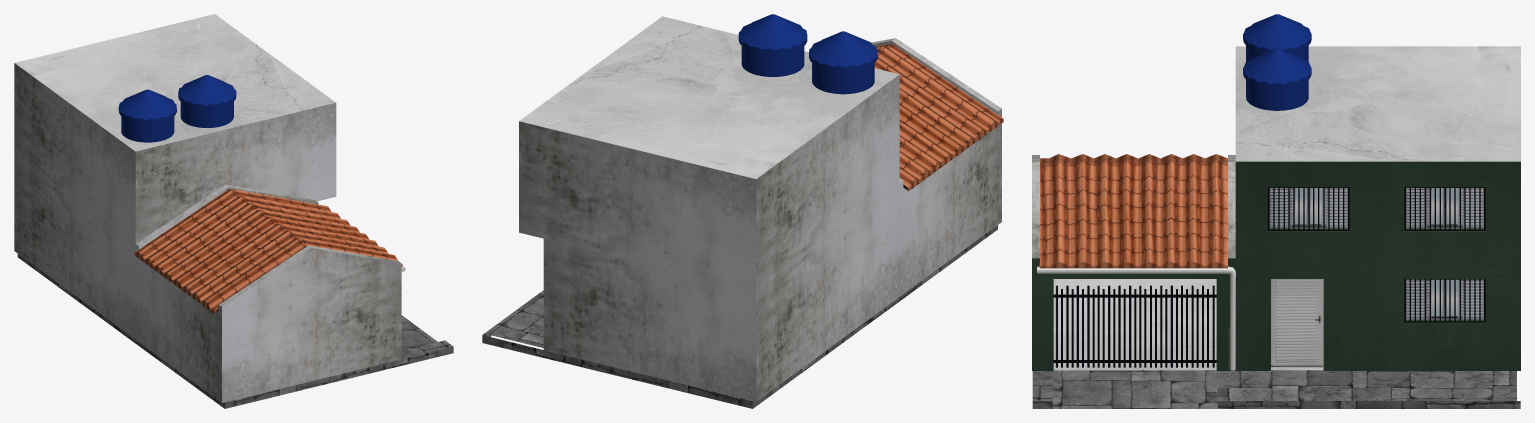
File: casa comum .fbx
3 renders of one model, left to right at view 1: azimuth 30°, elevation 25°; view 2: azimuth 150°, elevation 25°; view 3: azimuth 270°, elevation 25°, orthographic. The views are drawn at different scales.
Visible parts, largest first — view 1: casa_simples, techado_casa, calcada_casa, caixa_agua, caixa_agua.001; view 2: casa_simples, techado_casa, calcada_casa, caixa_agua.001, caixa_agua; view 3: casa_simples, calcada_casa, techado_casa, caixa_agua.001, caixa_agua, cano_casa.
Boxes of the visible parts, x1,y1,x2,y2 form: casa_simples: [14, 14, 401, 402]; techado_casa: [134, 189, 402, 313]; calcada_casa: [17, 254, 453, 408]; caixa_agua: [118, 89, 176, 142]; caixa_agua.001: [178, 75, 236, 127]; casa_simples: [519, 16, 1001, 401]; techado_casa: [874, 44, 1003, 191]; calcada_casa: [482, 225, 997, 408]; caixa_agua.001: [738, 14, 807, 76]; caixa_agua: [809, 31, 877, 94]; casa_simples: [1032, 46, 1520, 370]; calcada_casa: [1032, 279, 1520, 408]; techado_casa: [1039, 154, 1227, 268]; caixa_agua.001: [1243, 48, 1311, 110]; caixa_agua: [1243, 14, 1311, 61]; cano_casa: [1037, 266, 1235, 370].
Bounding box in the file's own units: 788 × 754 × 1201.
